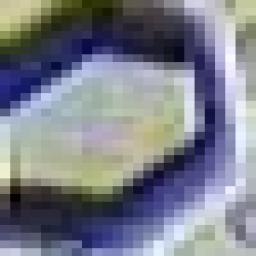crystals: (3, 42, 221, 220)
